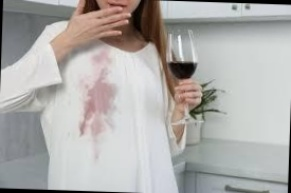wine: (77, 77, 118, 157), (83, 52, 116, 72)
